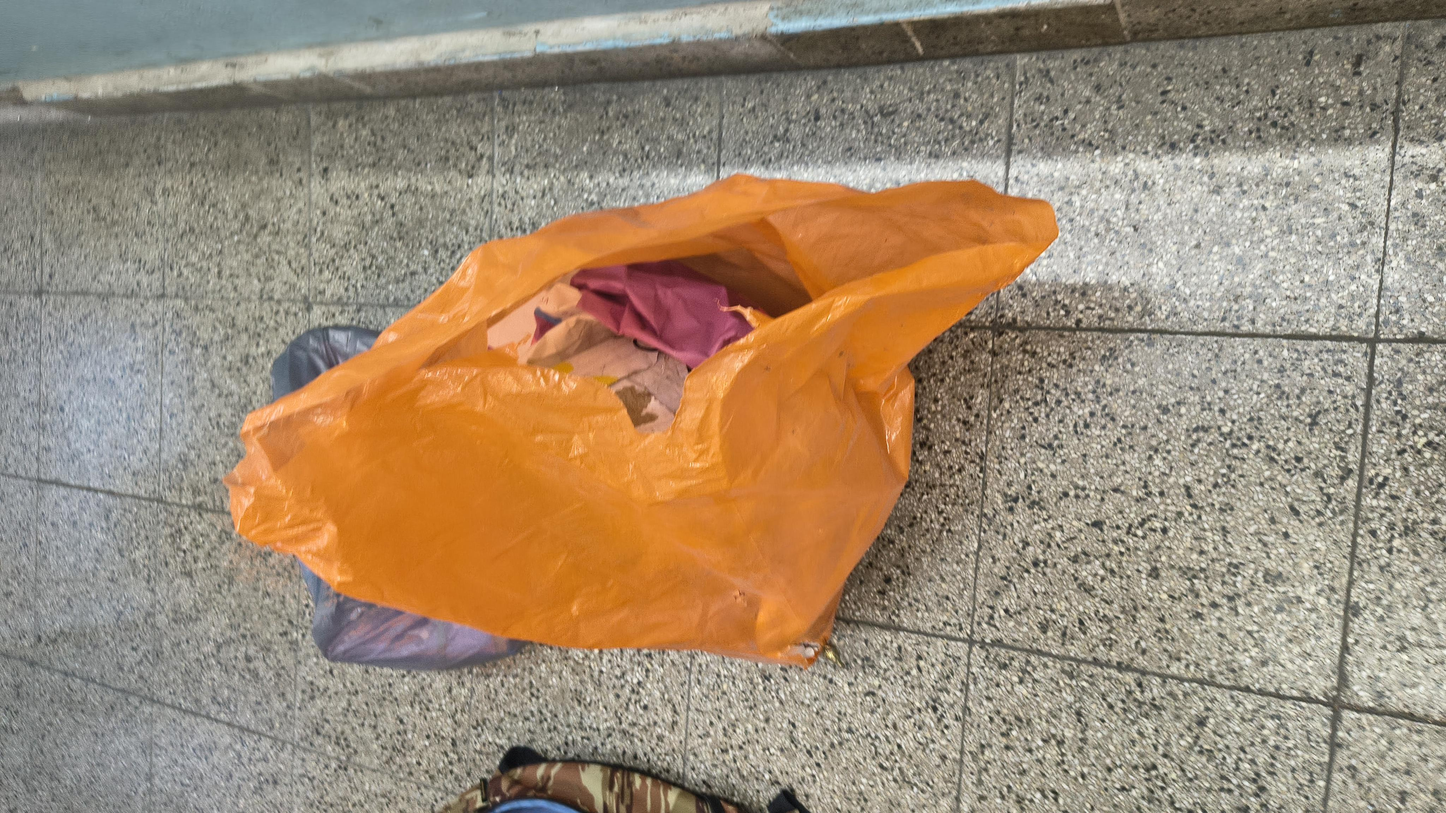Garbage: (213, 113, 1218, 621)
